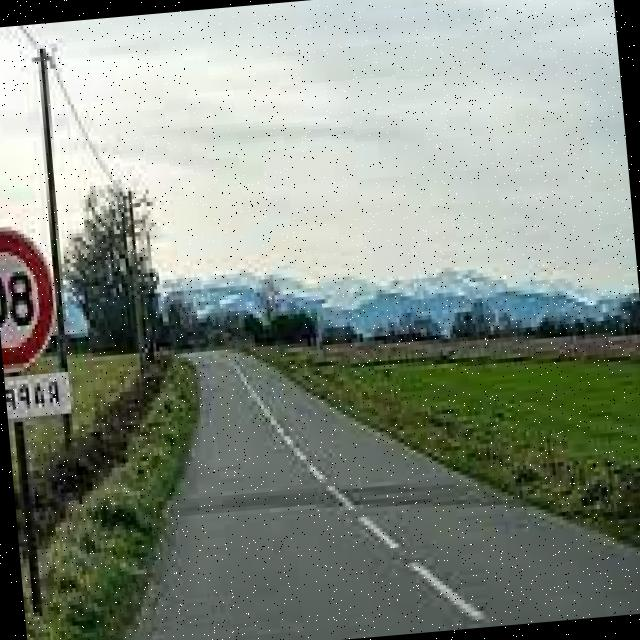speed_limit_80: (0, 206, 67, 377)
